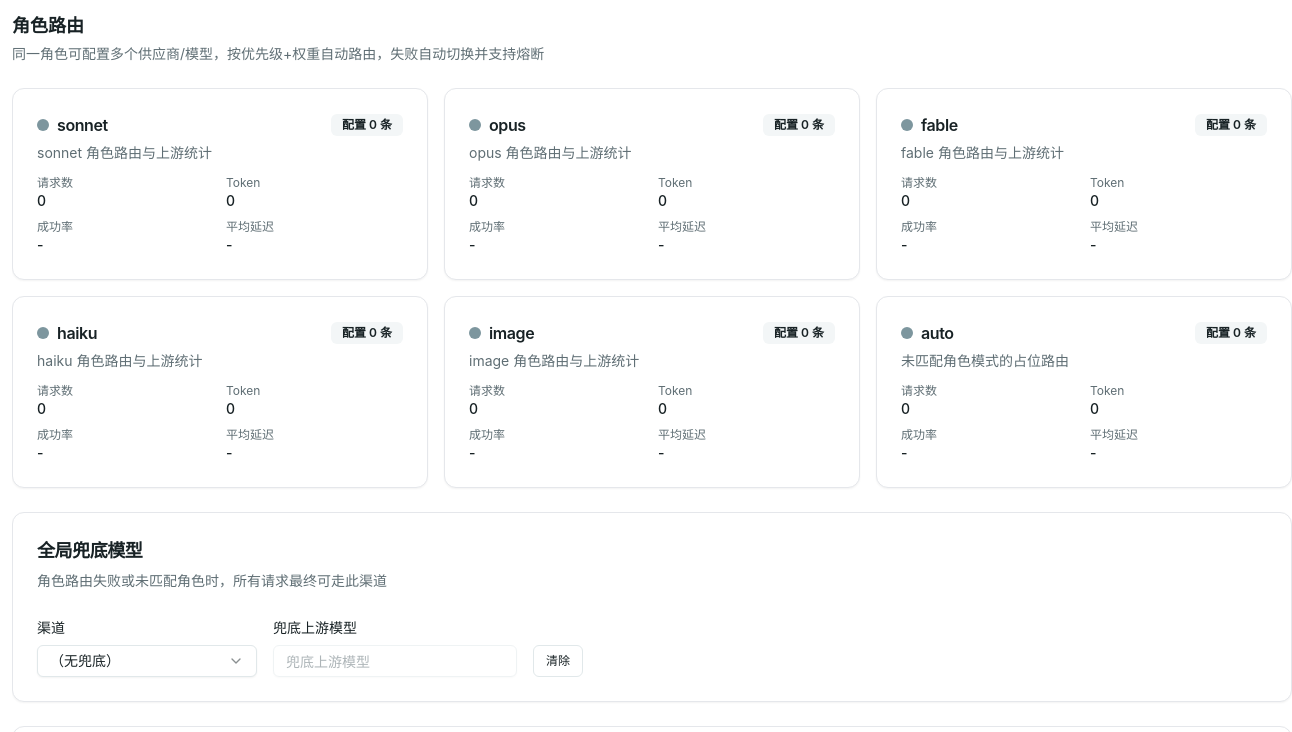
Scenario: RoleRoutesPage › 渲染路由行、上游模型与熔断状态
Click the button with aria-label "查看 sonnet 角色详情" at (82, 125), box [12,88,428,280]
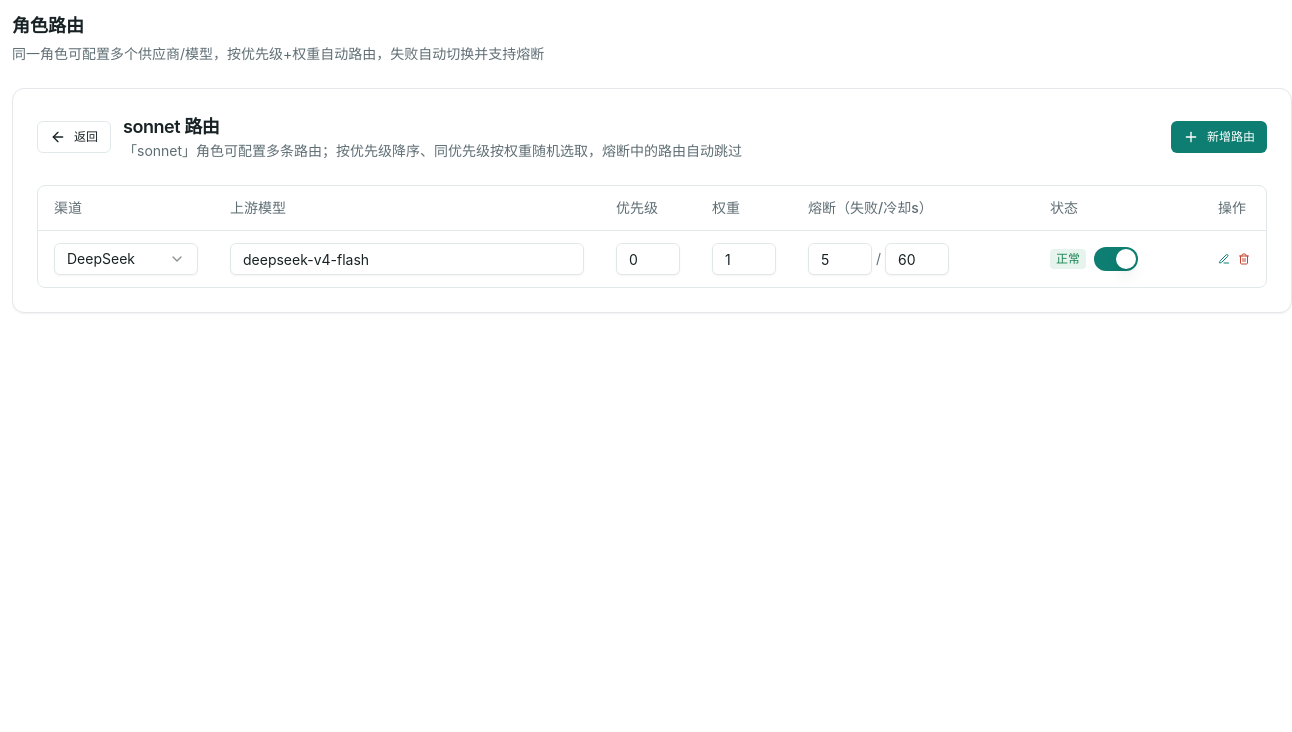
Expected: the field showing "deepseek-v4-flash" is shown, [230,243,584,275]
Expected: the text "正常" is shown, [1050,249,1086,269]
